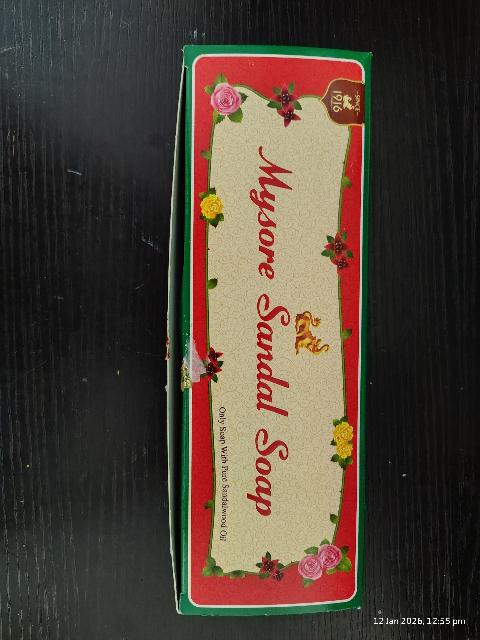mysore sandal soap: (180, 44, 364, 608)
